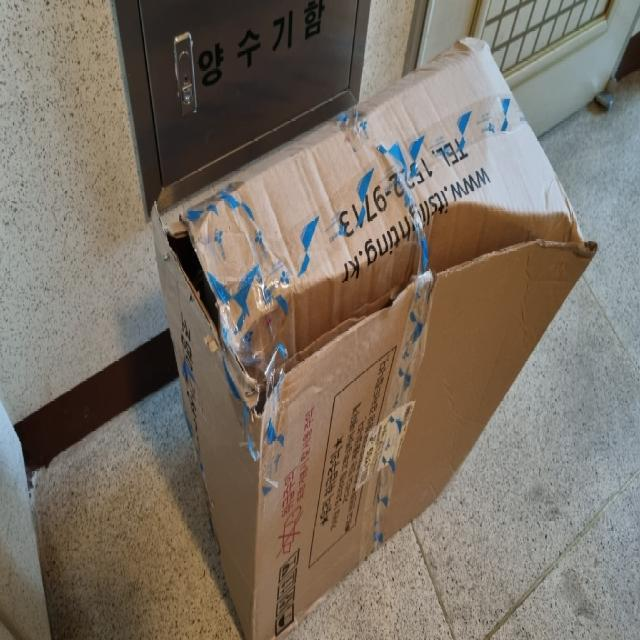box: (150, 40, 599, 640)
crushed: (273, 198, 595, 388)
opened: (152, 201, 254, 392)
